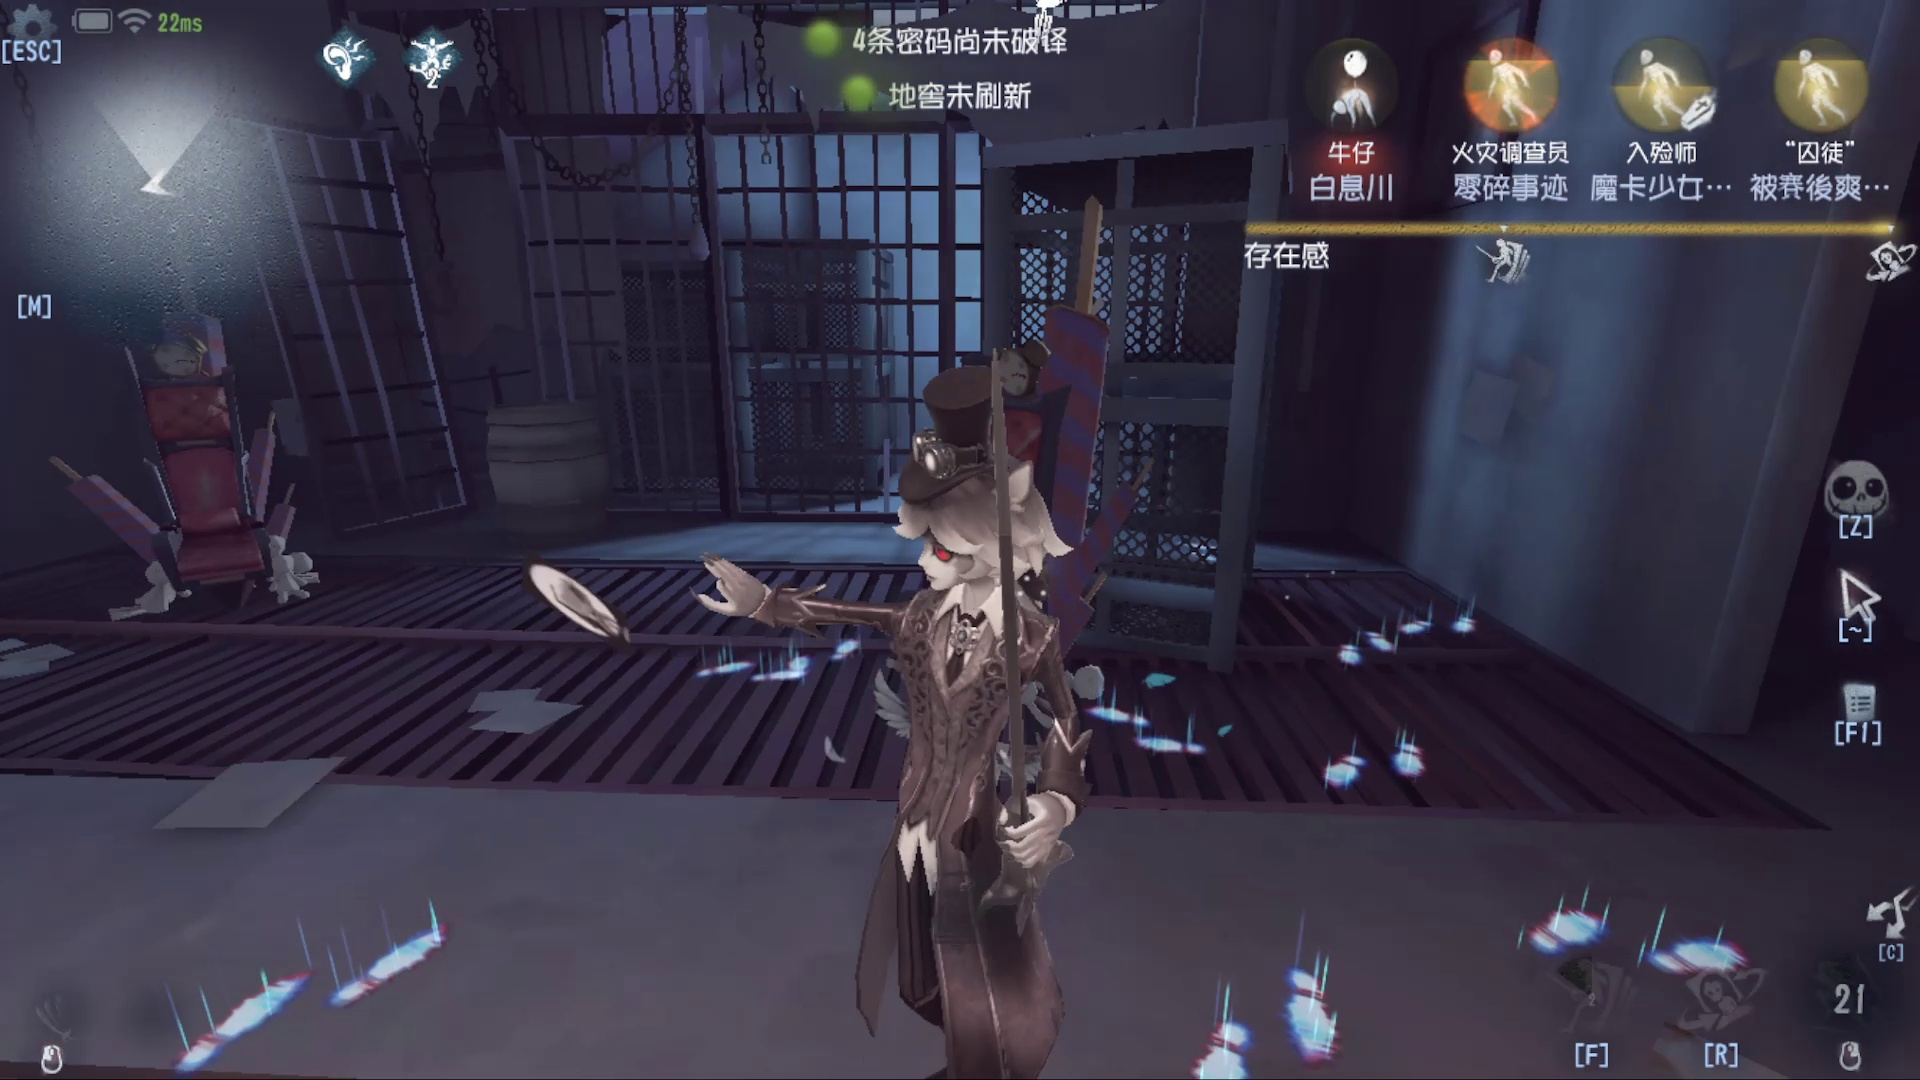狂欢之椅: (59, 260, 385, 603)
